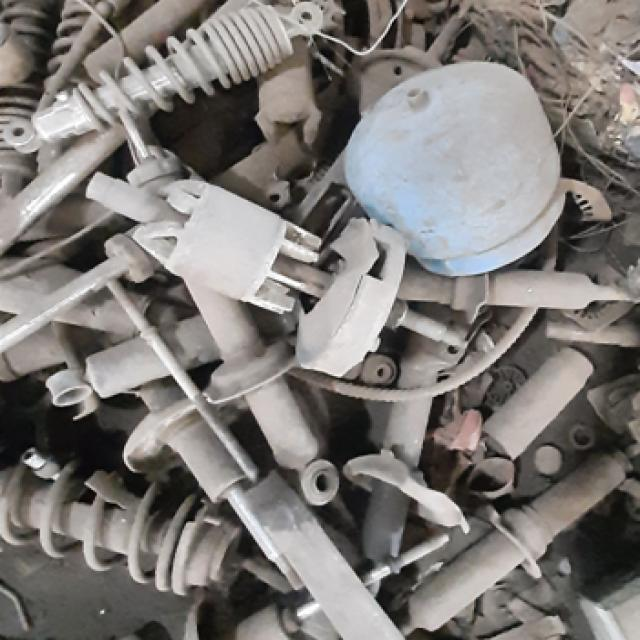cylinder: (345, 62, 566, 277)
shock absorber: (106, 279, 404, 638), (4, 1, 324, 155), (0, 460, 243, 596)
